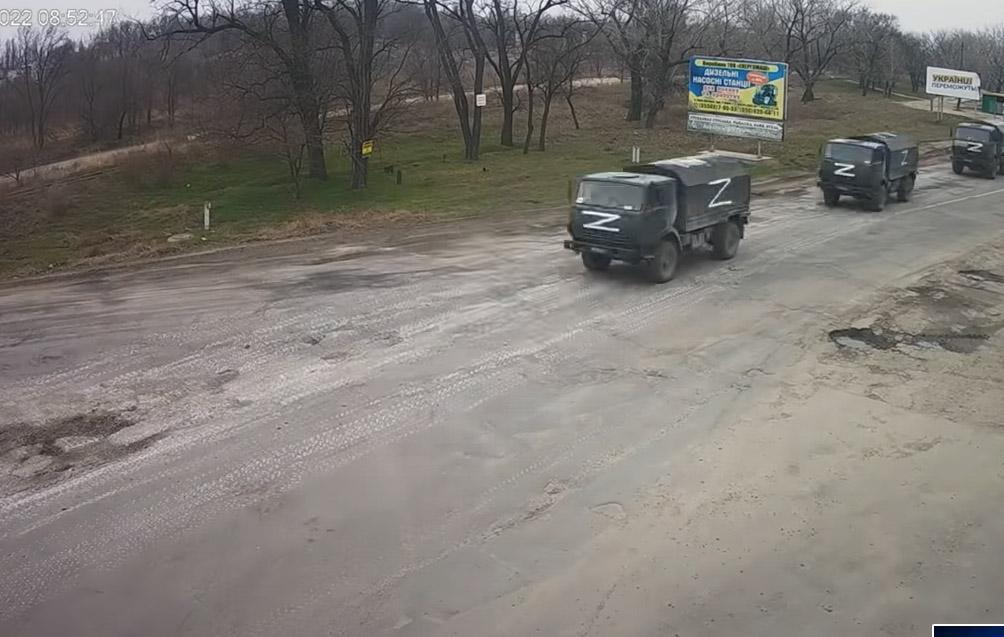truck: (556, 144, 756, 291), (812, 126, 924, 223), (943, 112, 1004, 186)
